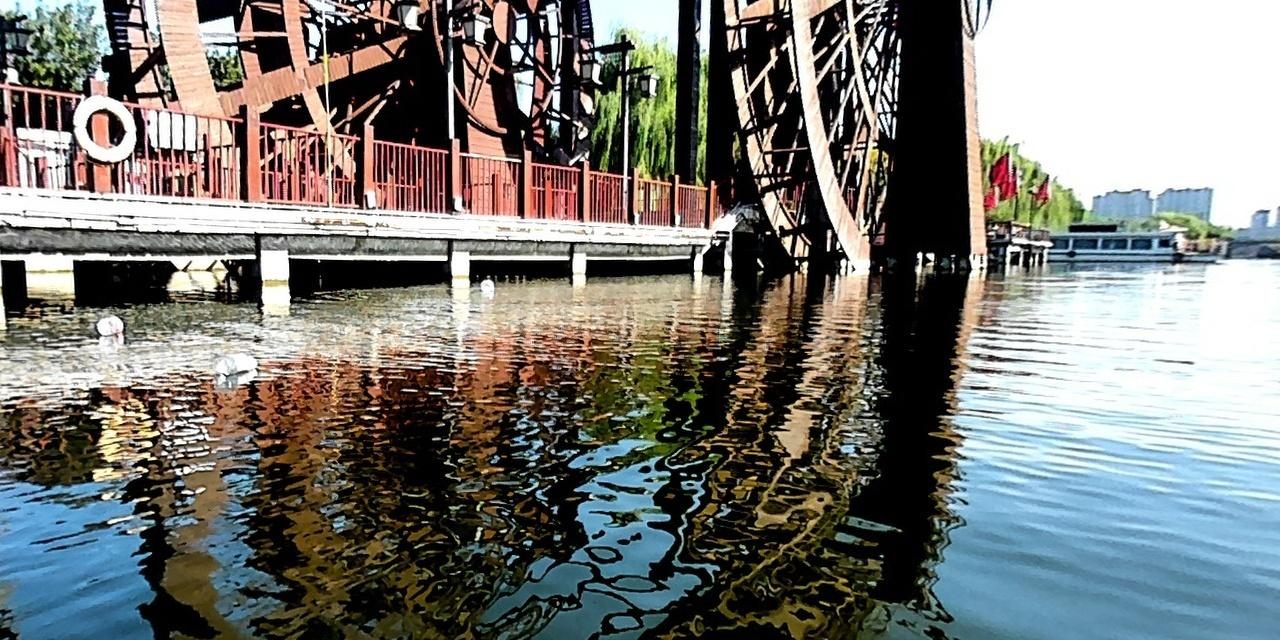bottle: (215, 351, 256, 374), (95, 314, 120, 337), (480, 279, 494, 290)
